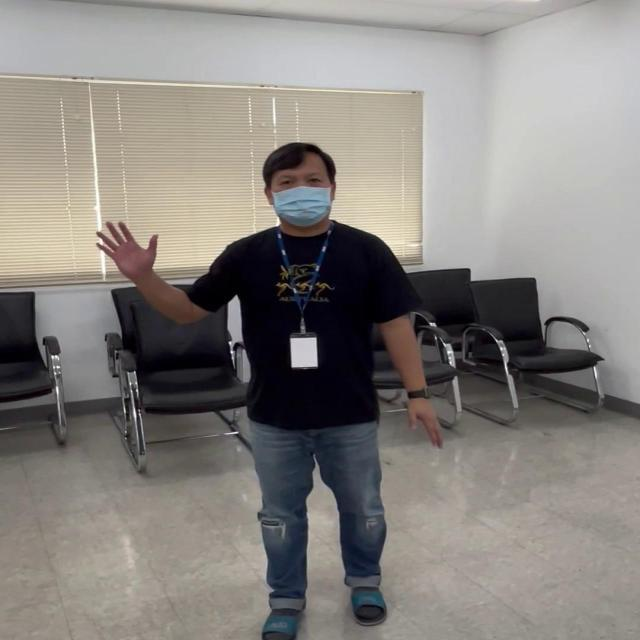bare_hand: (94, 218, 158, 278), (403, 395, 445, 452)
